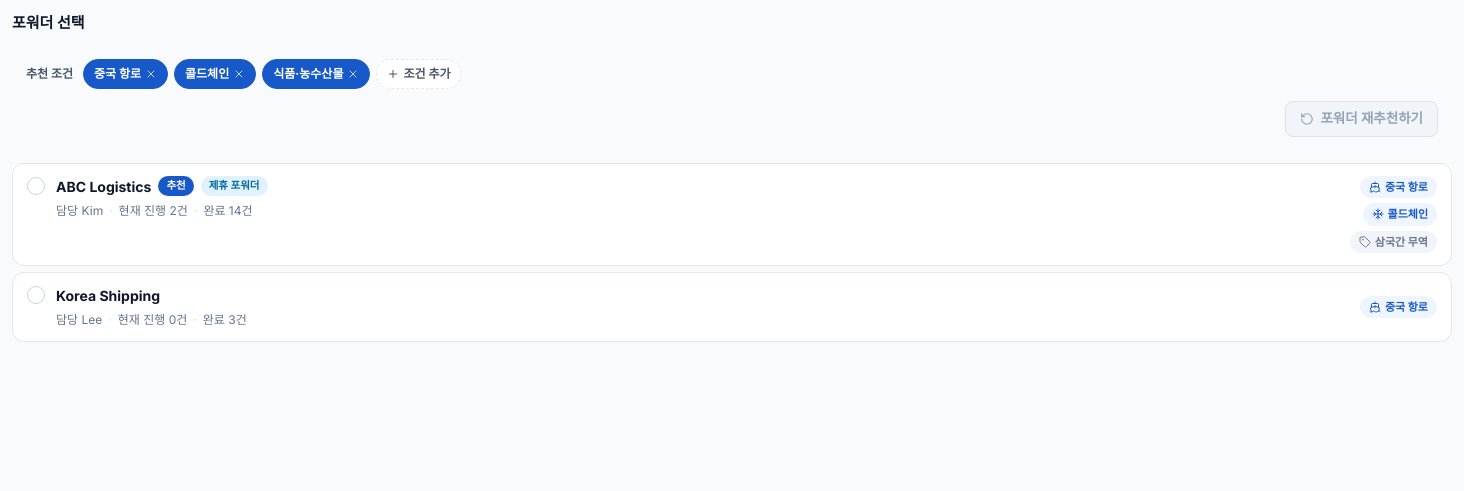
Test: ForwarderRecommendList › 조건을 바꾼 뒤 [포워더 재추천하기]를 눌러야 그 조건으로 다시 추천한다
Check: the button "포워더 재추천하기" is disabled, box [1285,100,1438,136]
Step 1. Click the button "조건 추가" → (419, 74), box [376,58,462,88]
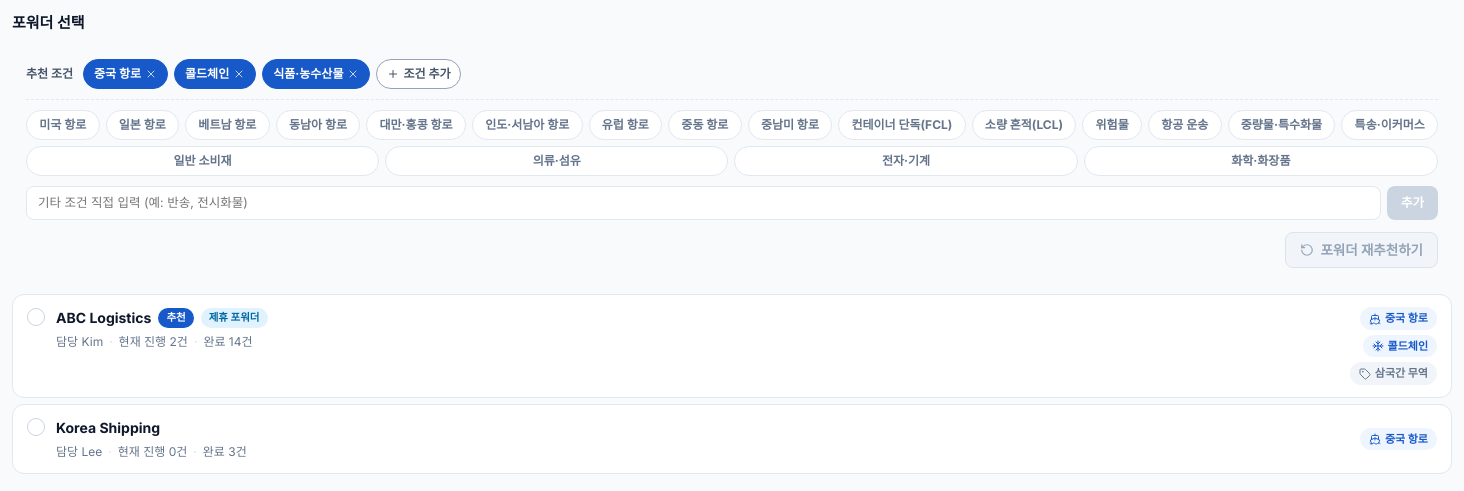
Step 2. Click the checkbox labelled "소량 혼적(LCL)" → (1024, 124), box [972,110,1076,140]
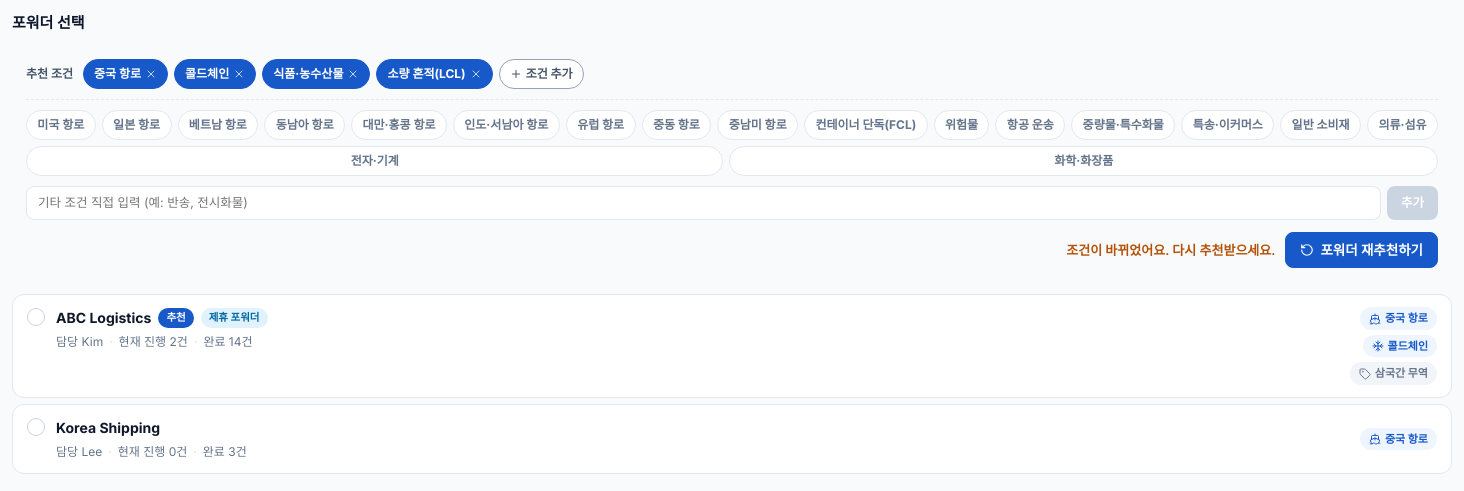
Step 3. Click the checkbox labelled "콜드체인" → (215, 74), box [174,58,256,88]
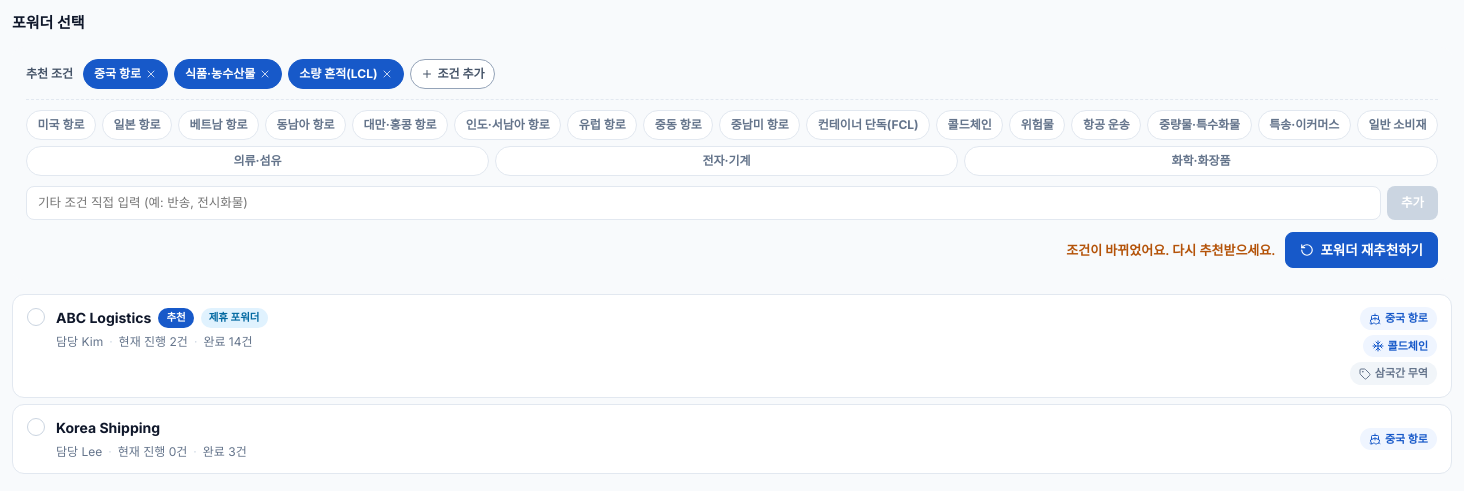
Check: the button "포워더 재추천하기" is enabled
Step 4. Click the button "포워더 재추천하기" → (1362, 250), box [1285,232,1438,268]
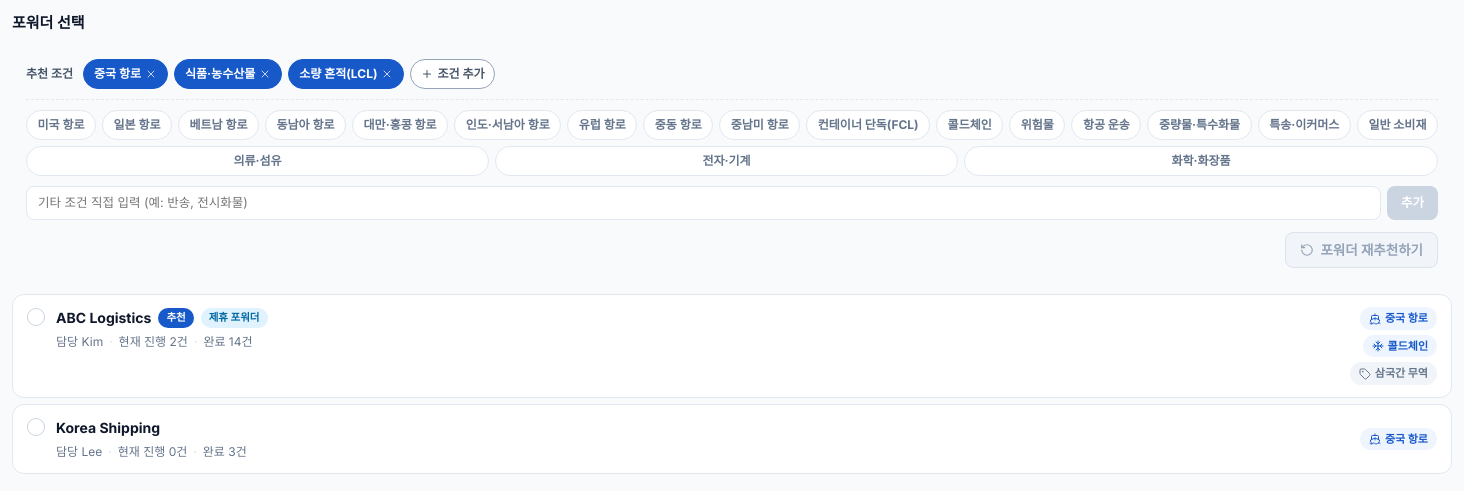
Check: the button "포워더 재추천하기" is disabled, box [1285,232,1438,268]
